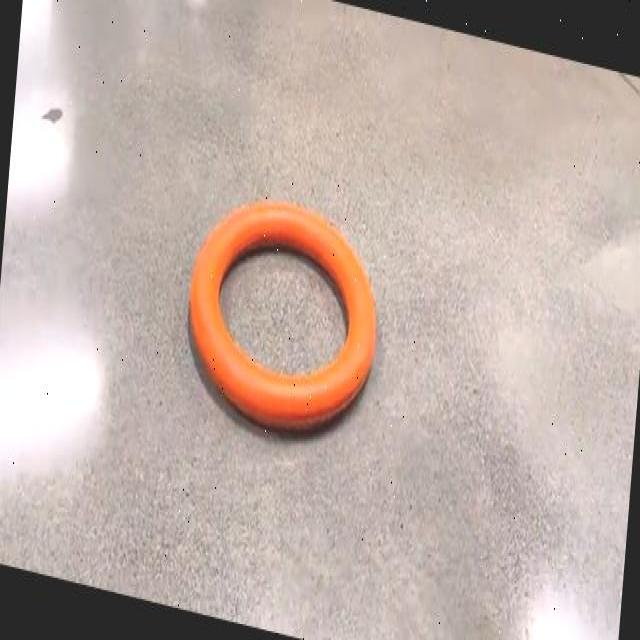note: (190, 201, 375, 429)
